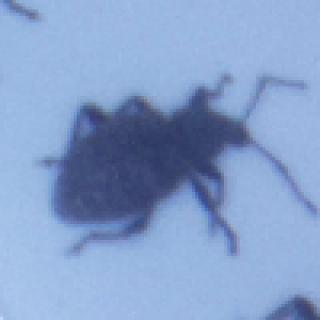bvw: (40, 72, 319, 255)
